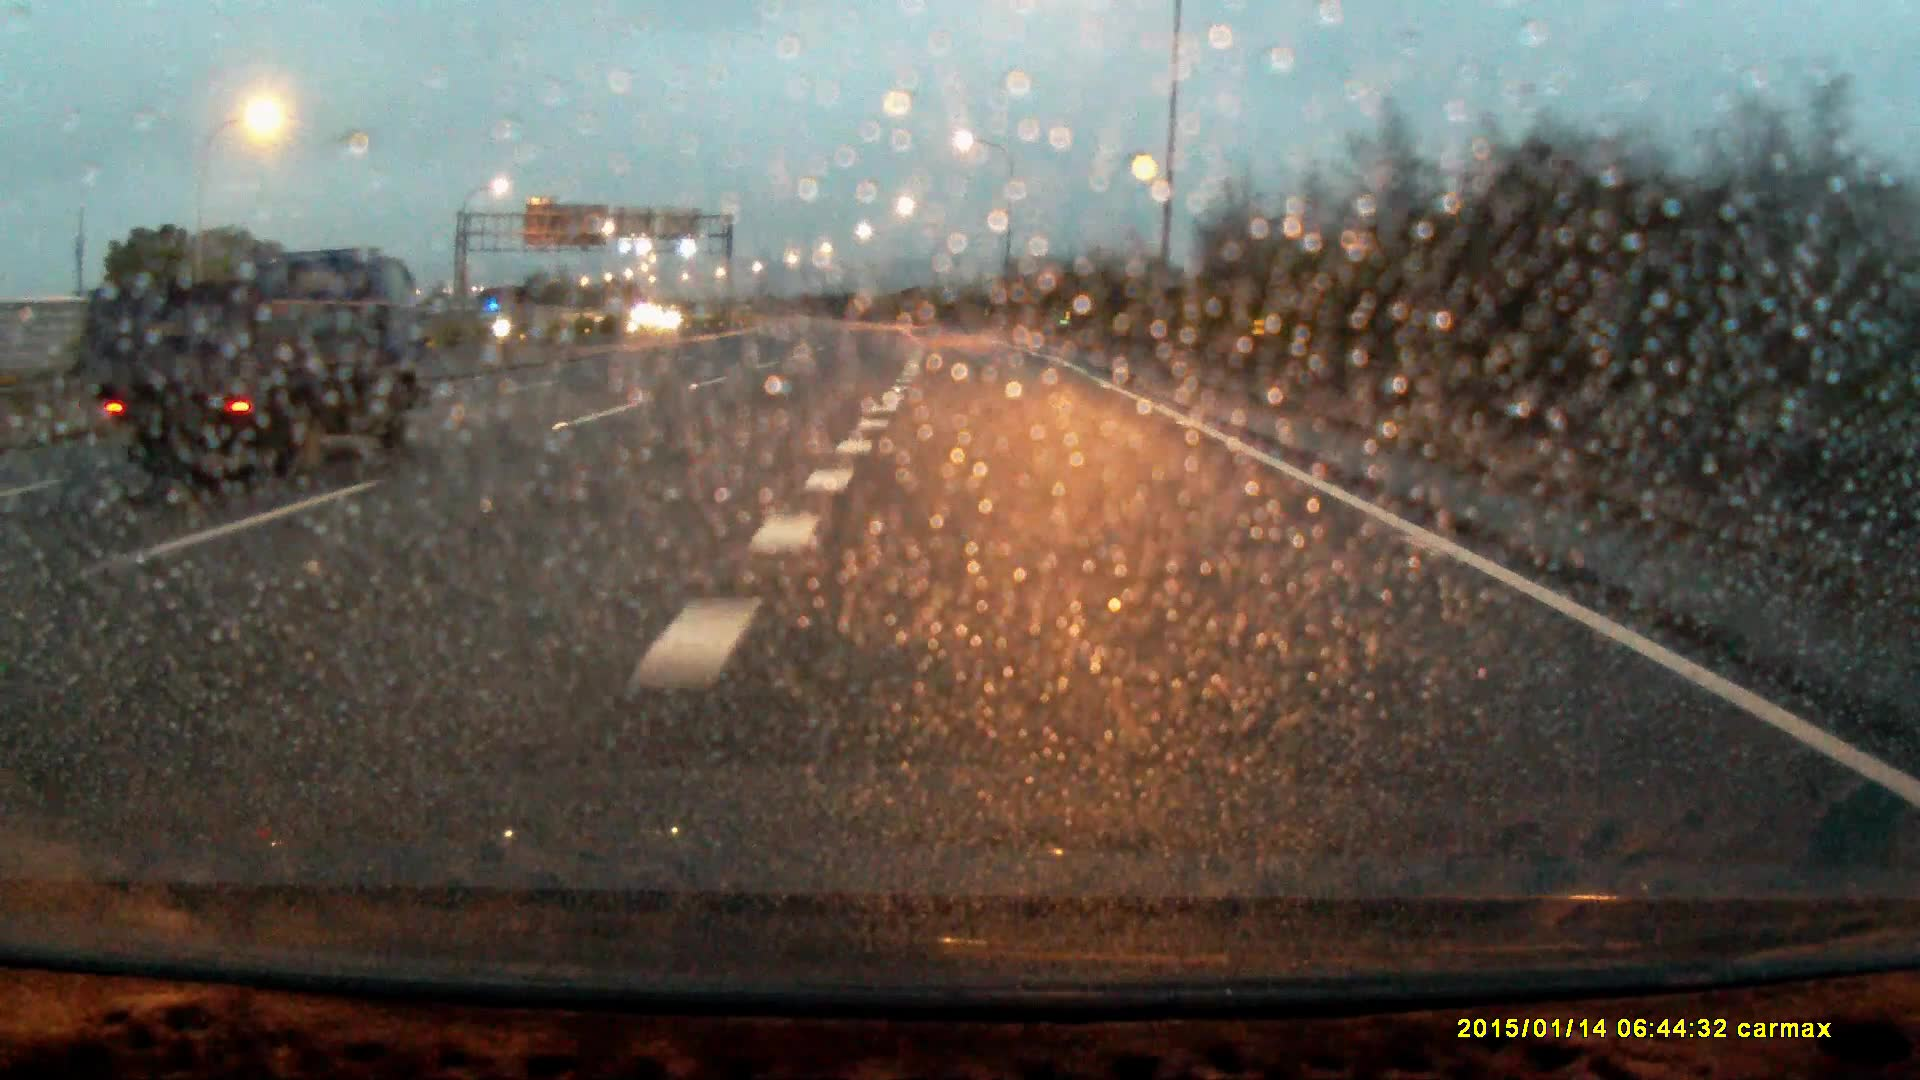vehicle: (98, 229, 415, 487)
